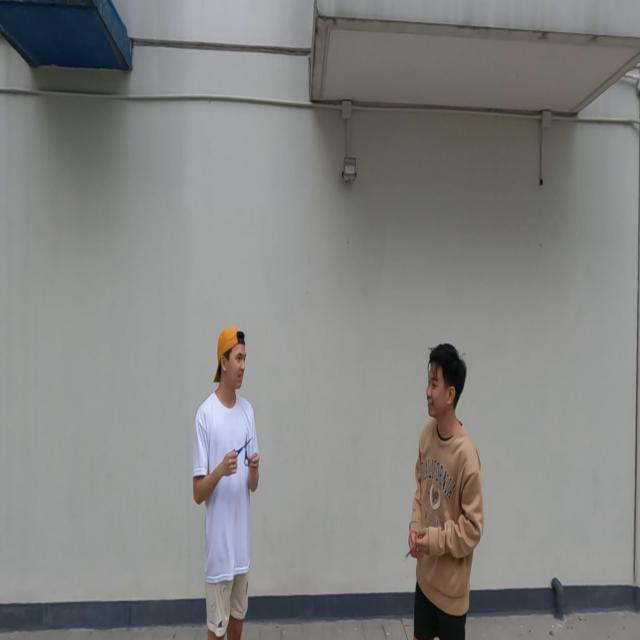scissor: (234, 434, 252, 466), (404, 532, 422, 562)
